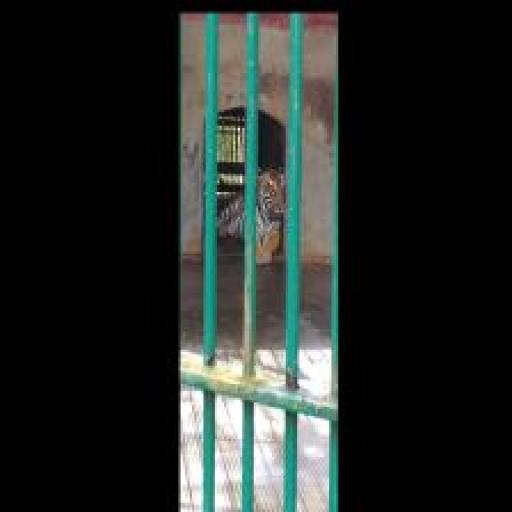Tiger: (217, 151, 288, 266)
